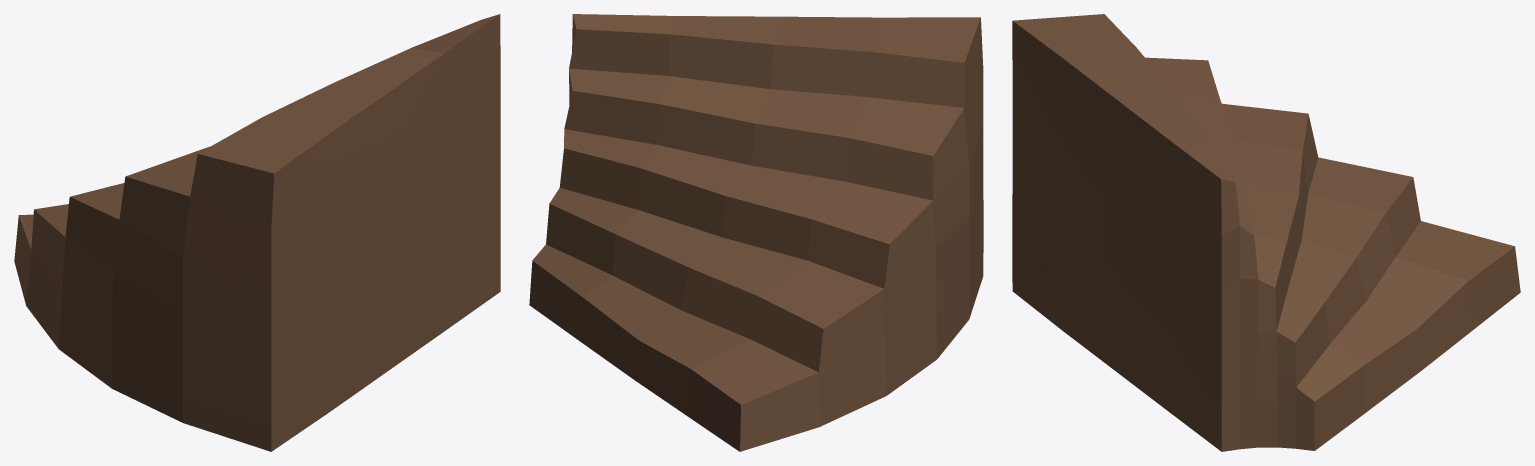
The model's file is Stone_Stairs_Small_Bend.fbx.
3 renders of one model, left to right at view 1: azimuth 30°, elevation 25°; view 2: azimuth 150°, elevation 25°; view 3: azimuth 270°, elevation 25°, orthographic. The views are drawn at different scales.
Parts seen in each view (by area): view 1: Stone_Stairs_Small_Bend; view 2: Stone_Stairs_Small_Bend; view 3: Stone_Stairs_Small_Bend.
Part boxes in pixels (left/top/right/bottom): Stone_Stairs_Small_Bend: left=14, top=14, right=500, bottom=451; Stone_Stairs_Small_Bend: left=529, top=14, right=983, bottom=451; Stone_Stairs_Small_Bend: left=1012, top=14, right=1520, bottom=451.
Bounding box in the file's own units: 210 × 143 × 241.
